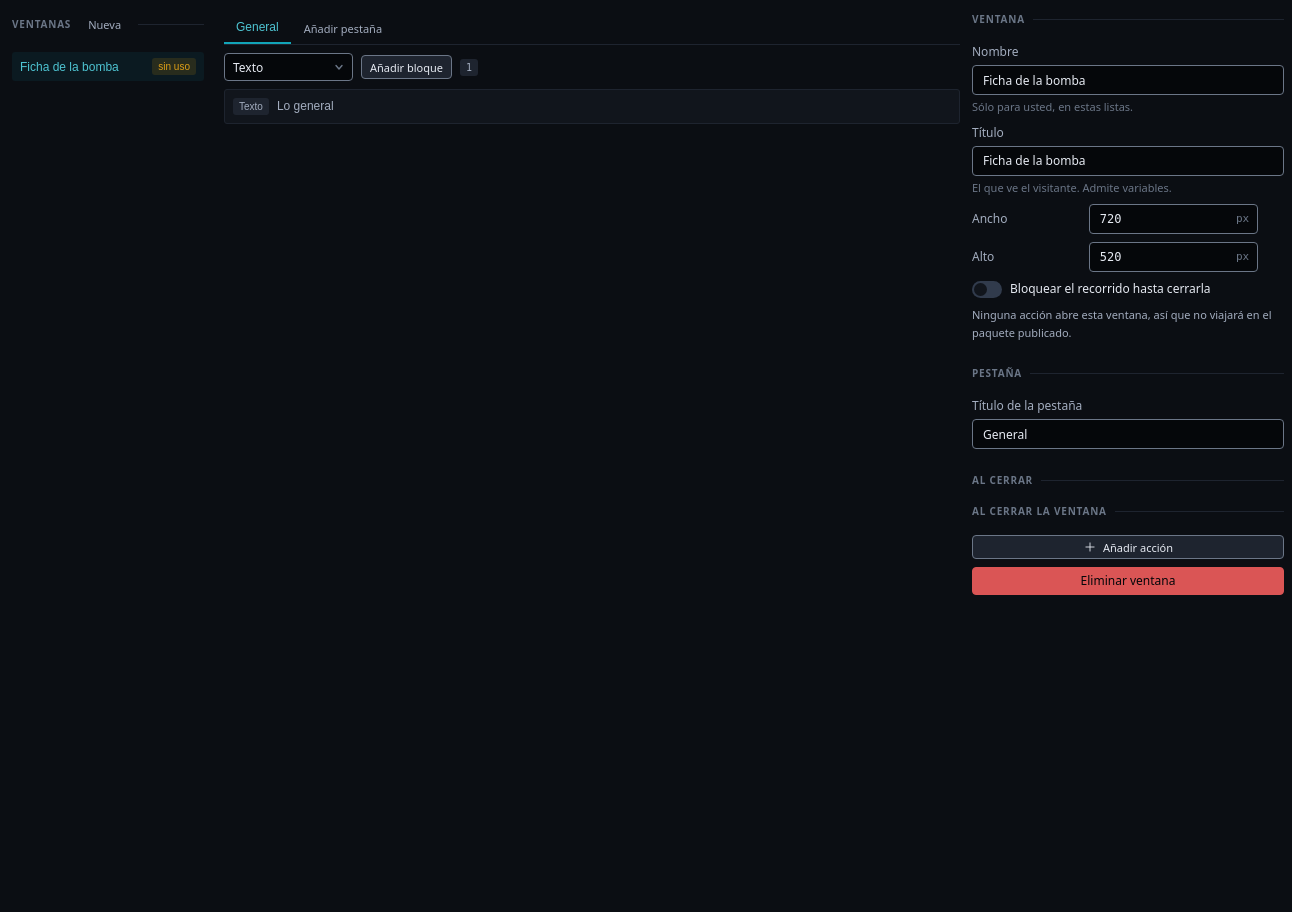
Scenario: InfoWindowsModule › TEST-IWM-010 se añaden pestañas y cada una tiene sus bloques
What coordinates should you click on to do the following:
click the button "Añadir pestaña"
I would click on:
 (343, 28)
Its box is [295,16,391,40].
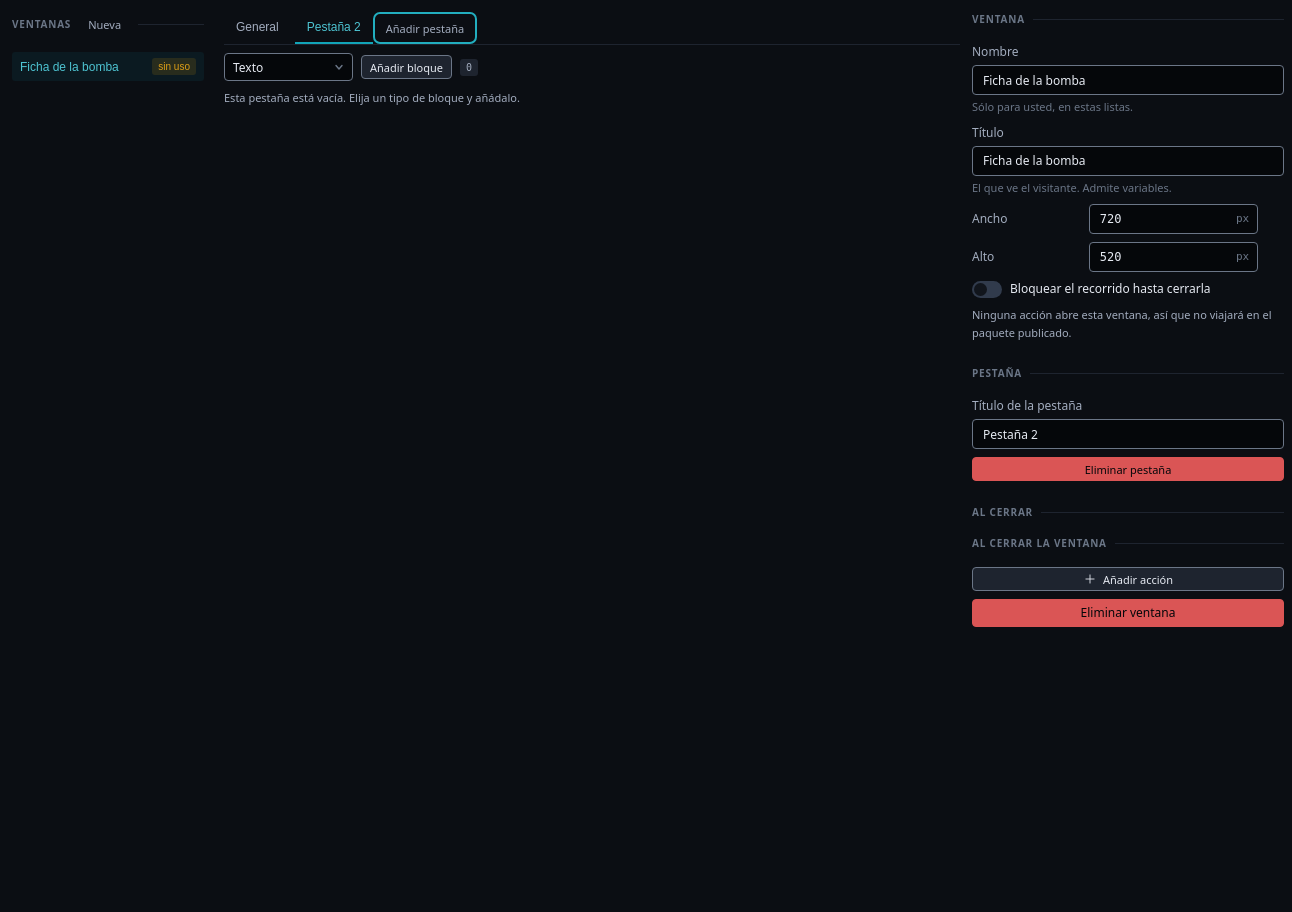
Now the text "Esta pestaña está vacía. Elija un tipo de bloque y añádalo." is shown, box [224,90,520,105]
Now the button "Lo general" is gone
